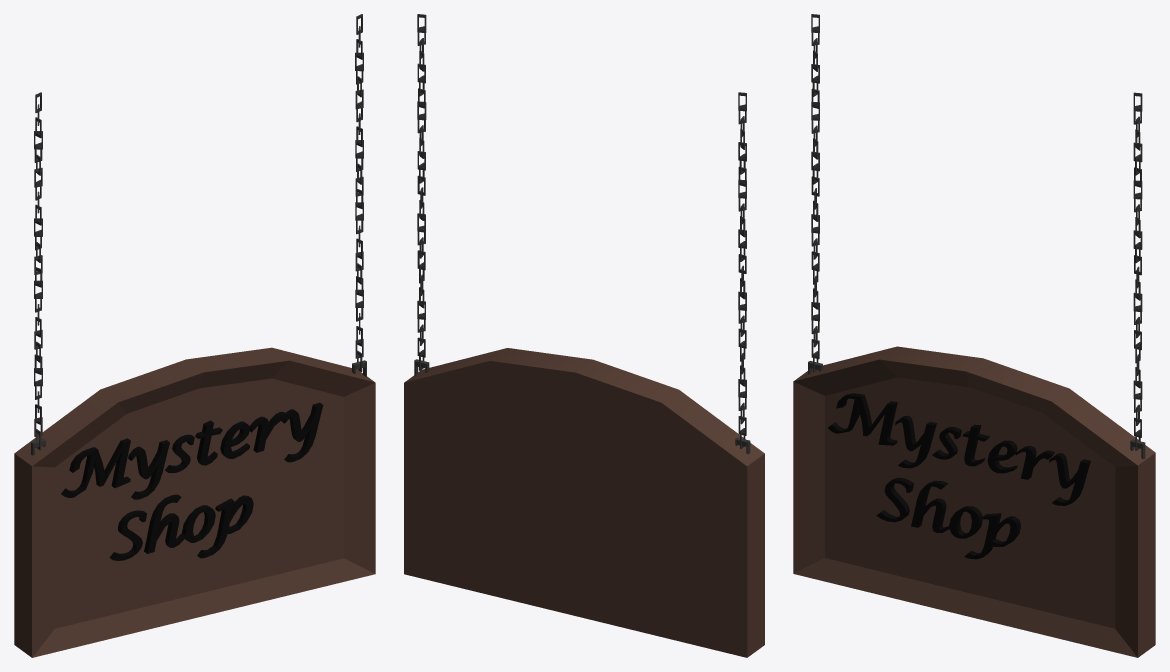
Rendered from Mystery_Sign.fbx.
3 views of the same model, side by side, from view 1: azimuth 30°, elevation 25°; view 2: azimuth 150°, elevation 25°; view 3: azimuth 330°, elevation 25° (orthographic).
Visible parts, largest first — view 1: Chains2; view 2: Chains2; view 3: Chains2.
Boxes of the visible parts, x1=… form: Chains2: x1=14, y1=14, x2=375, y2=657; Chains2: x1=404, y1=14, x2=764, y2=657; Chains2: x1=793, y1=14, x2=1155, y2=657.
Size of the model in its own units: 7.59 by 11.72 by 0.6787.
